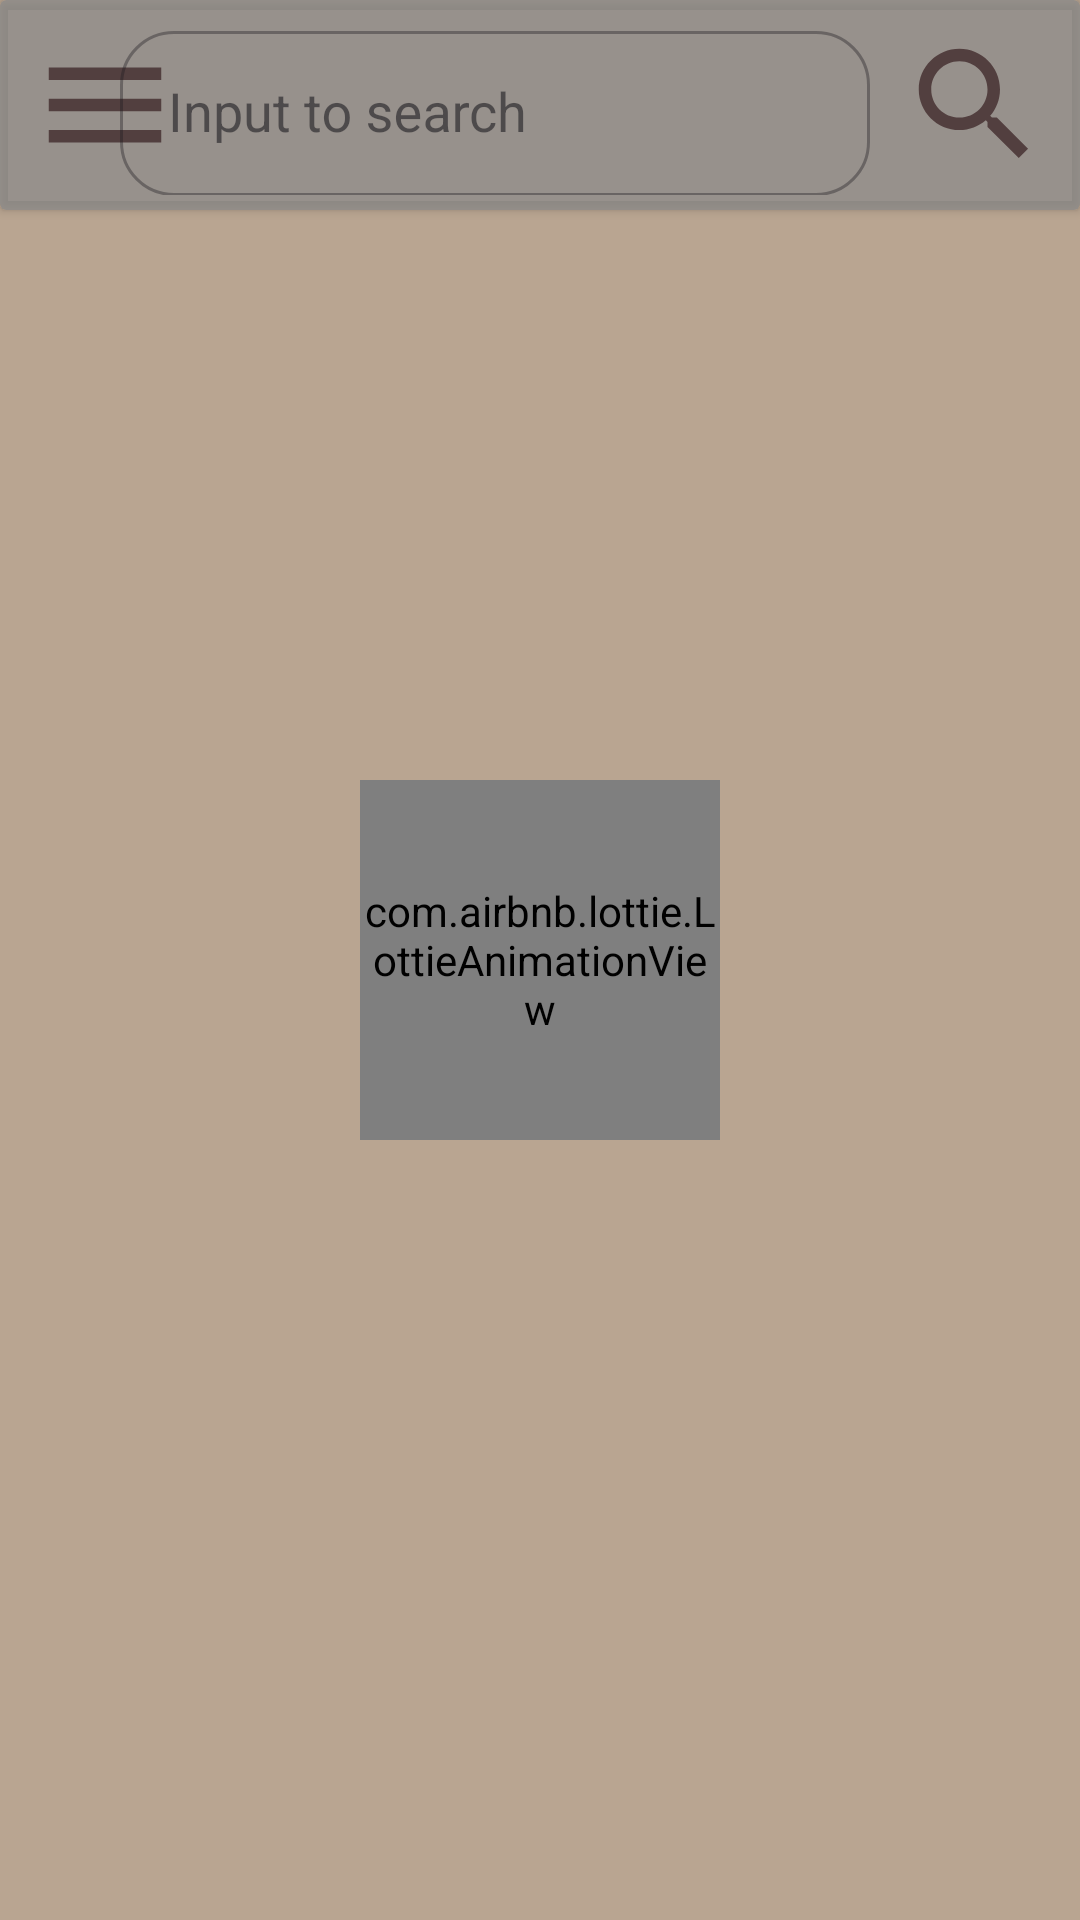

Point at icon controls on the screen. Image size 1080px x 1920px, points as (x=x, y=y).
Menu: (x=114, y=105)
